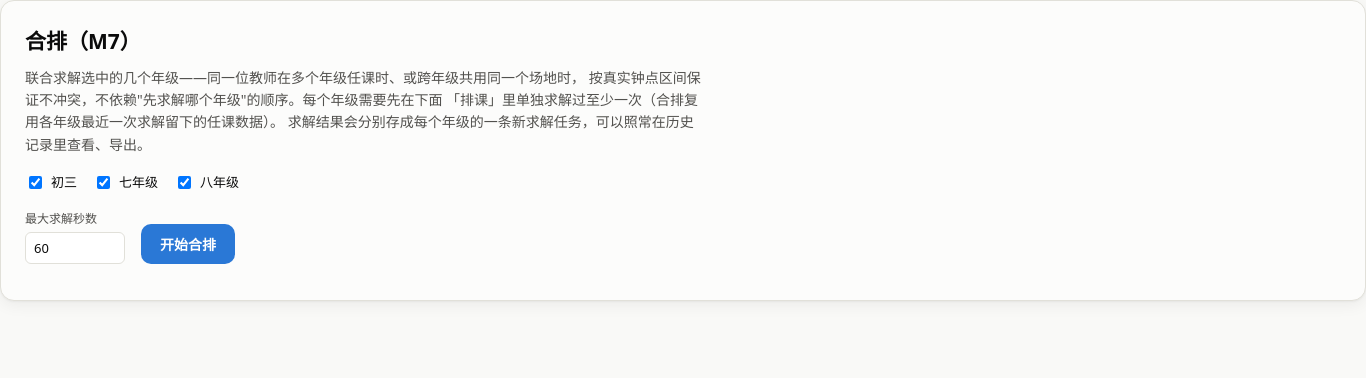
it: MergedSolveSettings › shows the backend error message when the solve request fails
Click the button with test id "run-merged-solve-button": {"x": 188, "y": 244} [141,224,235,264]
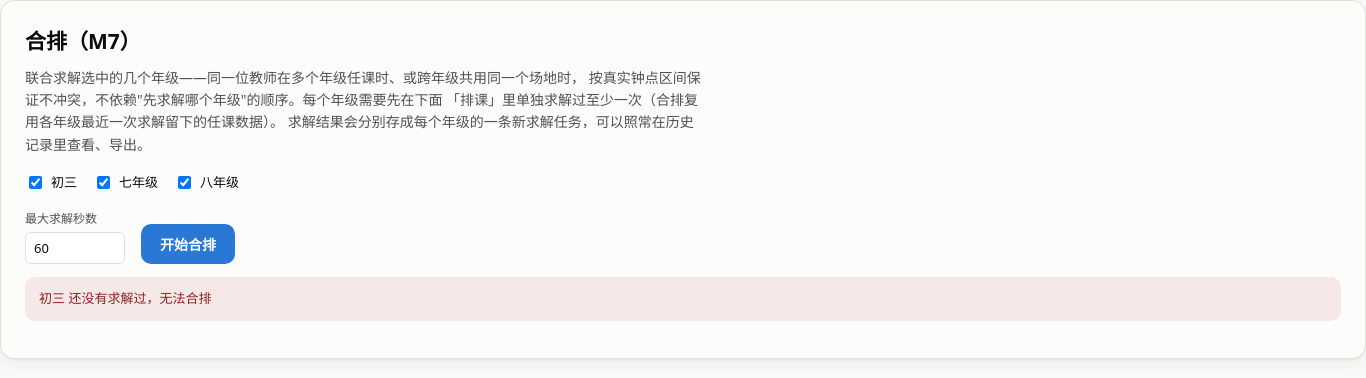
expect the text with test id "error" shows "还没有求解过": met, box [39,289,211,307]
